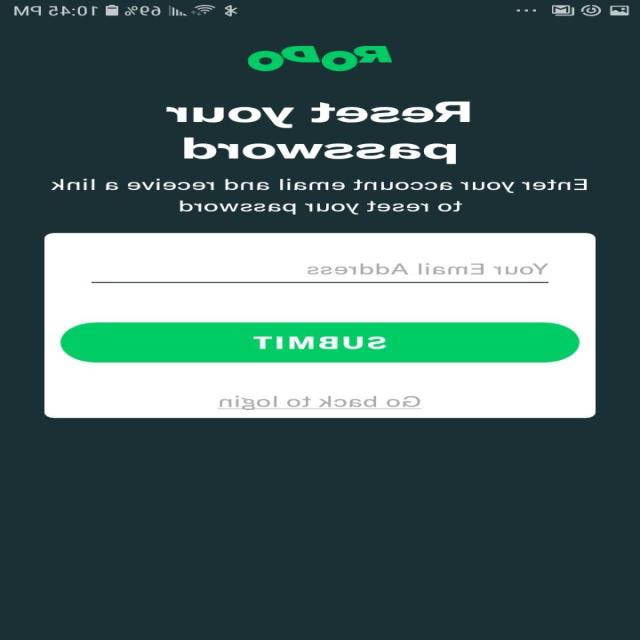EditText: (91, 262, 550, 284)
Image: (248, 46, 393, 72)
Text: (51, 178, 588, 215), (166, 101, 471, 164), (218, 395, 422, 410), (307, 262, 548, 274)
TextButton: (60, 322, 580, 362)
